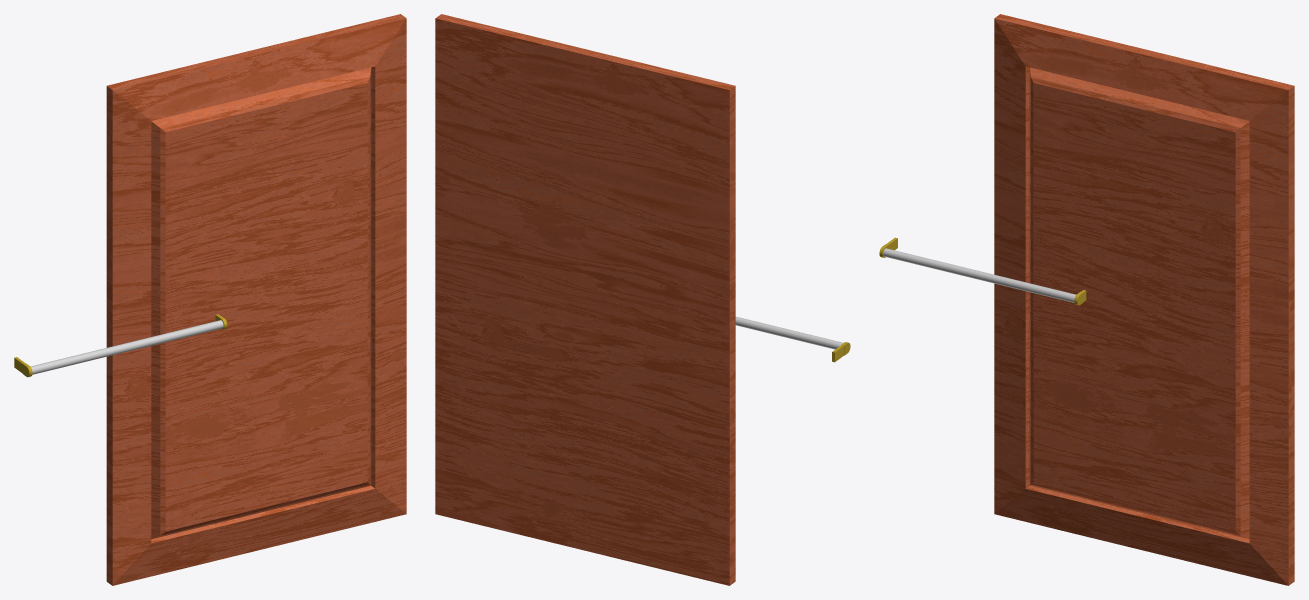
Rendered from Cabinet_08764c9a.obj.
3 views of the same model, side by side, from view 1: azimuth 30°, elevation 25°; view 2: azimuth 150°, elevation 25°; view 3: azimuth 330°, elevation 25° (orthographic).
Visible parts, largest first — view 1: Mesh_01_db89608f, handle_2_305mm_01_4c07e78a; view 2: Mesh_01_db89608f, handle_2_305mm_01_4c07e78a; view 3: Mesh_01_db89608f, handle_2_305mm_01_4c07e78a.
Part boxes in pixels (x1,y1,x2,y2): Mesh_01_db89608f: (106, 14, 406, 585); handle_2_305mm_01_4c07e78a: (14, 314, 227, 377); Mesh_01_db89608f: (435, 14, 735, 585); handle_2_305mm_01_4c07e78a: (735, 316, 850, 362); Mesh_01_db89608f: (994, 14, 1294, 585); handle_2_305mm_01_4c07e78a: (879, 237, 1086, 305).
Bounding box in the file's own units: 0.6058 × 0.73 × 0.0585.
